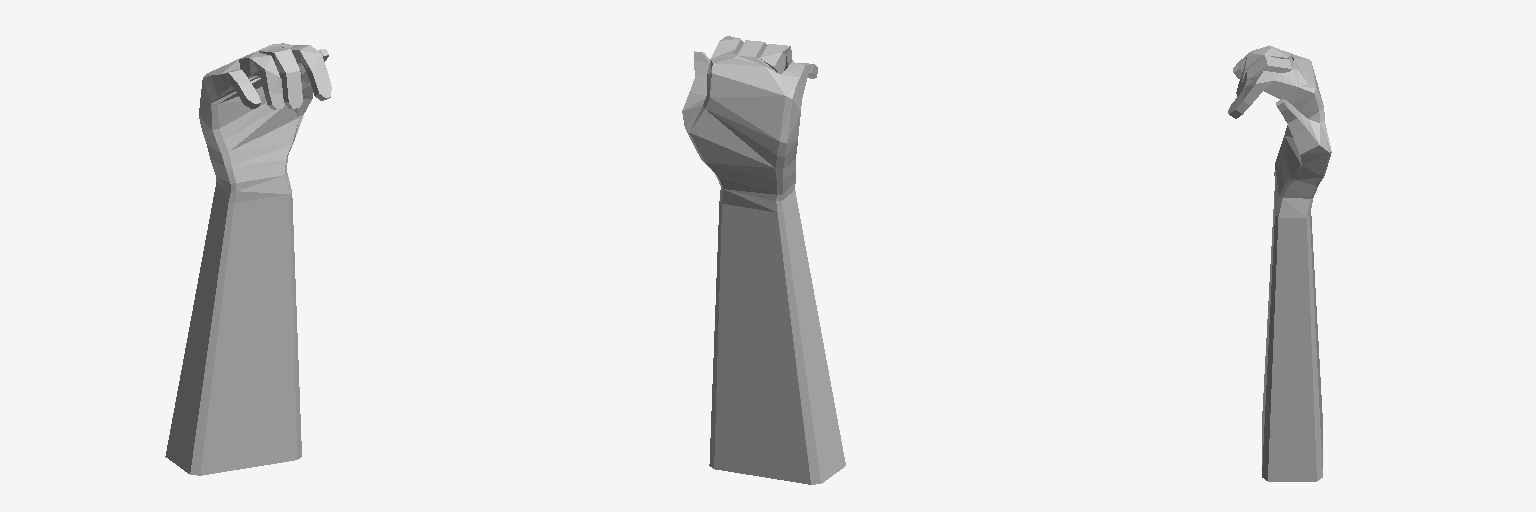
File: hand_anim13.obj
3 renders of one model, left to right at view 1: azimuth 30°, elevation 25°; view 2: azimuth 150°, elevation 25°; view 3: azimuth 270°, elevation 25°, orthographic.
Parts seen in each view (by area): view 1: Cube.001; view 2: Cube.001; view 3: Cube.001.
Boxes of the visible parts, <box> form: Cube.001: <box>165,43,331,475</box>; Cube.001: <box>682,36,845,484</box>; Cube.001: <box>1228,45,1331,481</box>.
Bounding box in the file's own units: 1.06 × 2.9 × 0.66.